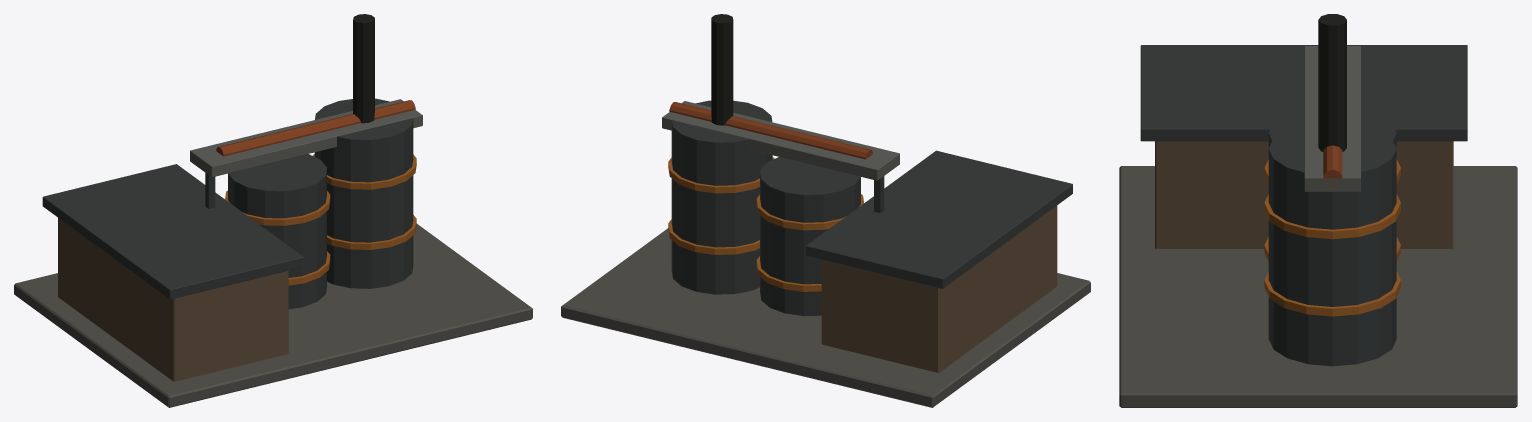
File: BrassBoilerStationV2.glb
The picture shows the model from 3 angles, left to right: view 1: azimuth 30°, elevation 25°; view 2: azimuth 150°, elevation 25°; view 3: azimuth 270°, elevation 25°; orthographic projection. The views are drawn at different scales.
Parts seen in each view (by area): view 1: BrassBoilerStationV2; view 2: BrassBoilerStationV2; view 3: BrassBoilerStationV2.
Part boxes in pixels (x1,y1,x2,y2): BrassBoilerStationV2: (14,14,532,407); BrassBoilerStationV2: (561,14,1090,407); BrassBoilerStationV2: (1119,14,1517,407).
Bounding box in the file's own units: 38 × 26 × 28.
1 material, 1 textured.
